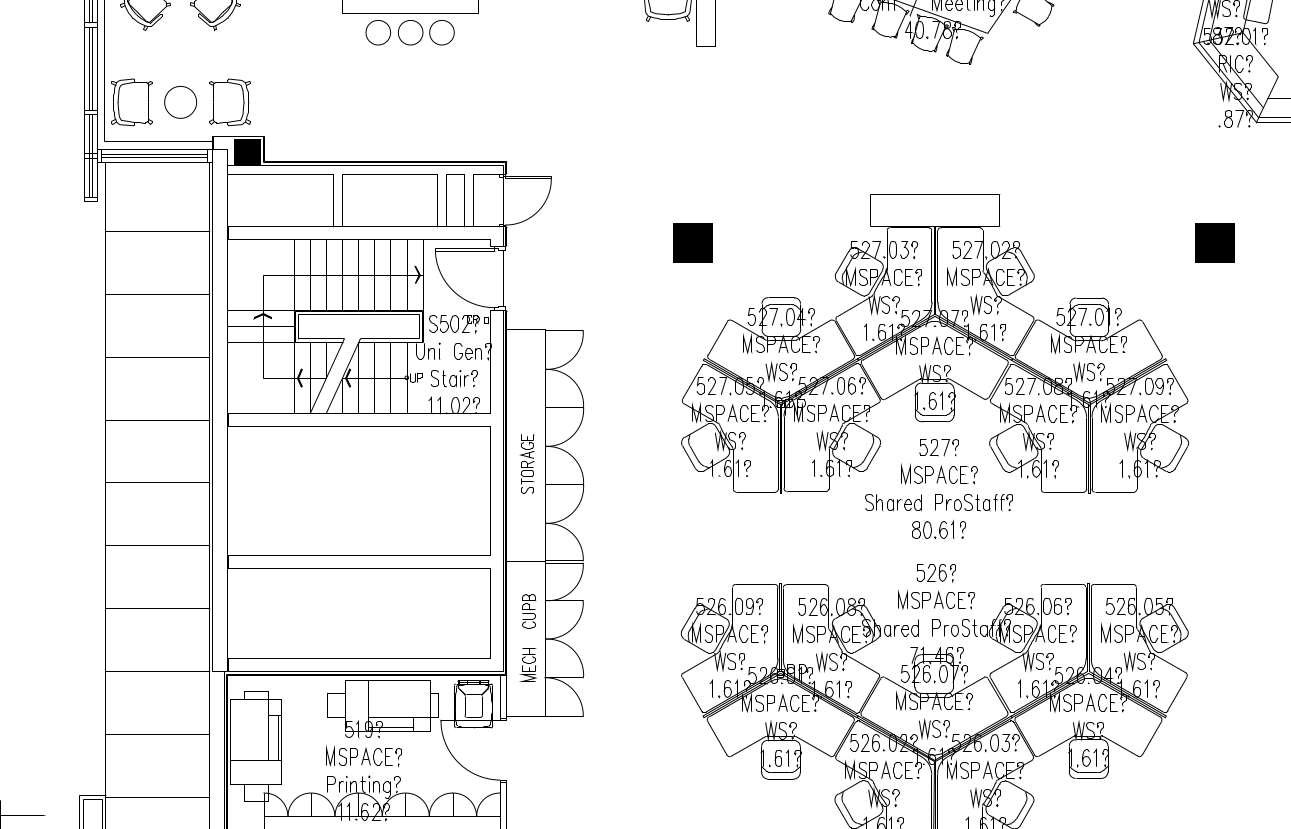door: (436, 714, 511, 786), (545, 323, 595, 408), (541, 595, 591, 680), (431, 244, 491, 310), (543, 676, 593, 728)
